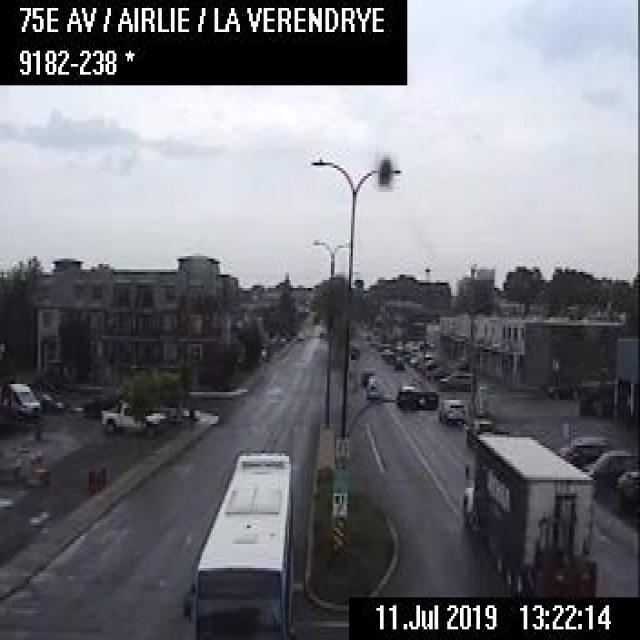bus: (182, 446, 293, 638)
construction: (86, 467, 95, 491), (94, 468, 100, 490), (99, 466, 105, 488)
vehicle: (461, 433, 596, 595), (101, 400, 164, 435), (581, 446, 638, 484), (556, 433, 608, 465), (0, 379, 39, 417), (462, 415, 509, 445), (436, 395, 465, 424), (437, 370, 471, 390), (38, 389, 62, 412), (362, 376, 382, 397), (379, 348, 393, 360), (392, 355, 404, 368)
